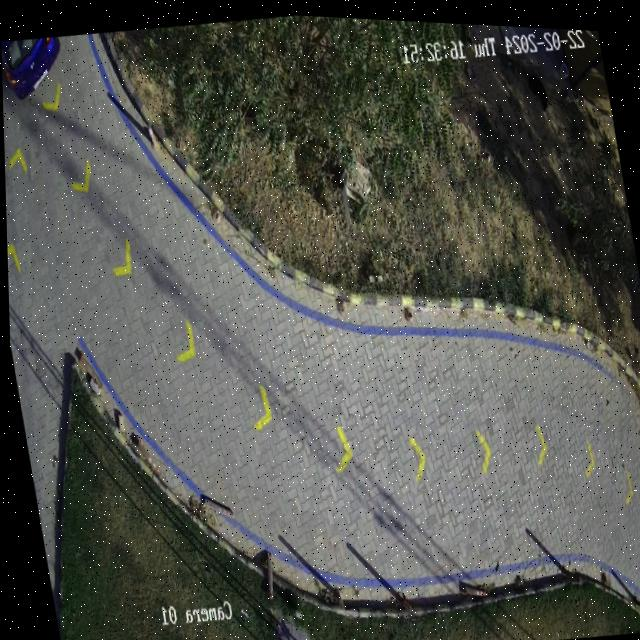car: (1, 37, 60, 97)
